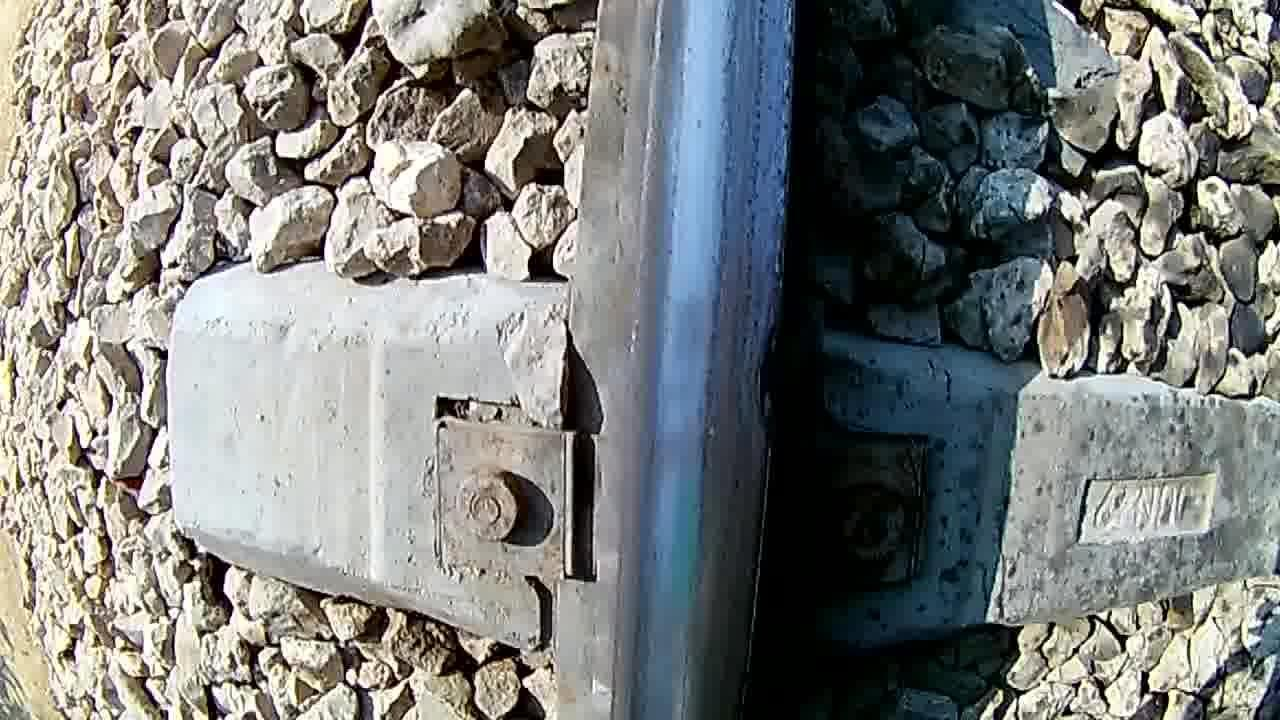crack: (600, 1, 788, 716)
